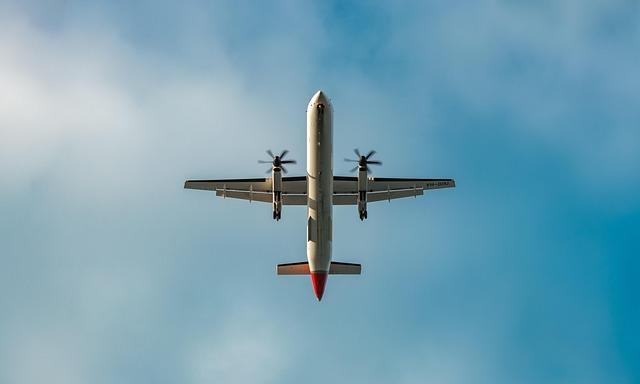Non_Gorille: (187, 68, 476, 351)
